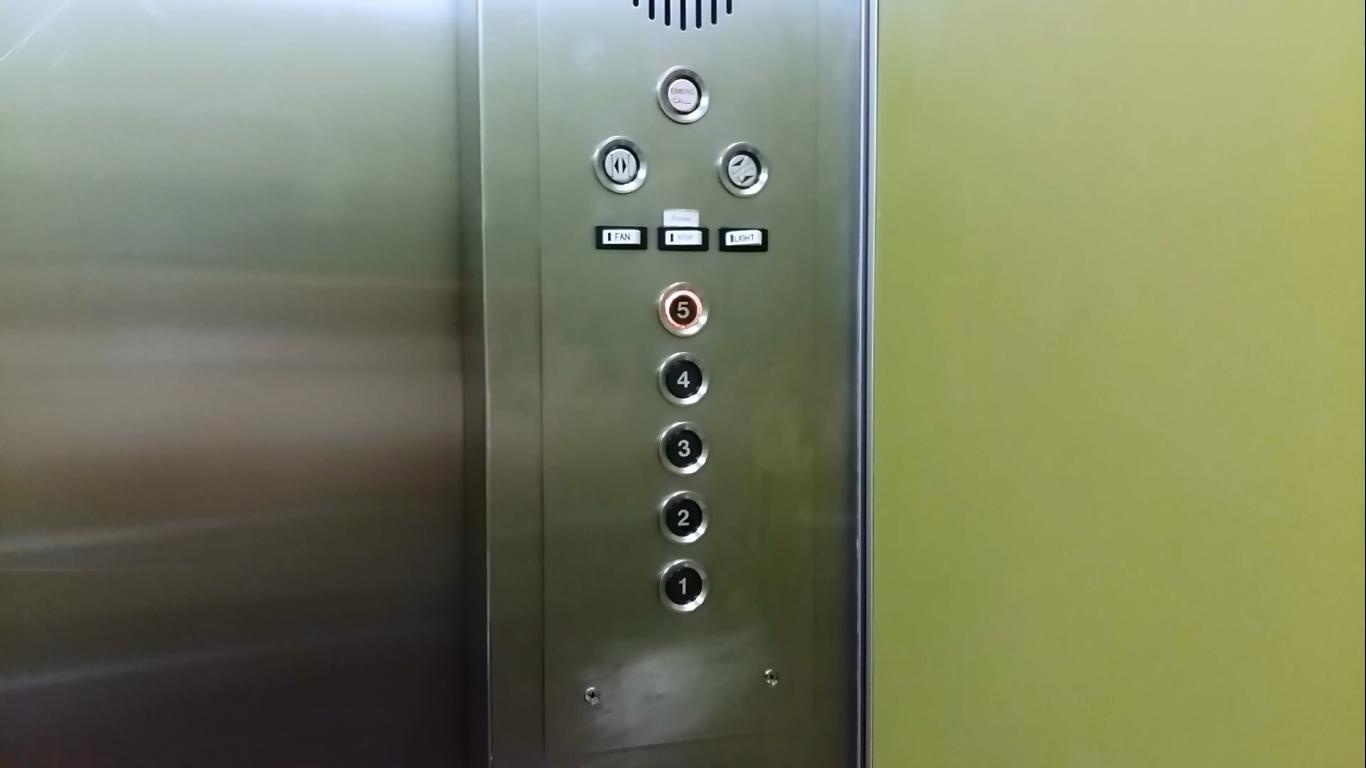1: (656, 557, 710, 613)
2: (656, 488, 710, 546)
3: (656, 420, 711, 477)
4: (656, 349, 711, 408)
5: (657, 280, 711, 338)
close: (718, 141, 770, 200)
open: (592, 134, 649, 196)
text_blur: (656, 65, 711, 125), (656, 225, 709, 251)
text_fan: (592, 224, 649, 250)
text_light: (718, 226, 768, 252)
